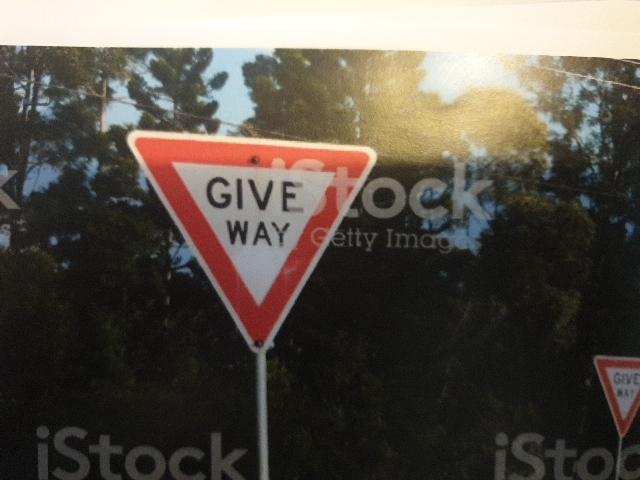giveway: (129, 128, 389, 355), (566, 342, 640, 435)
